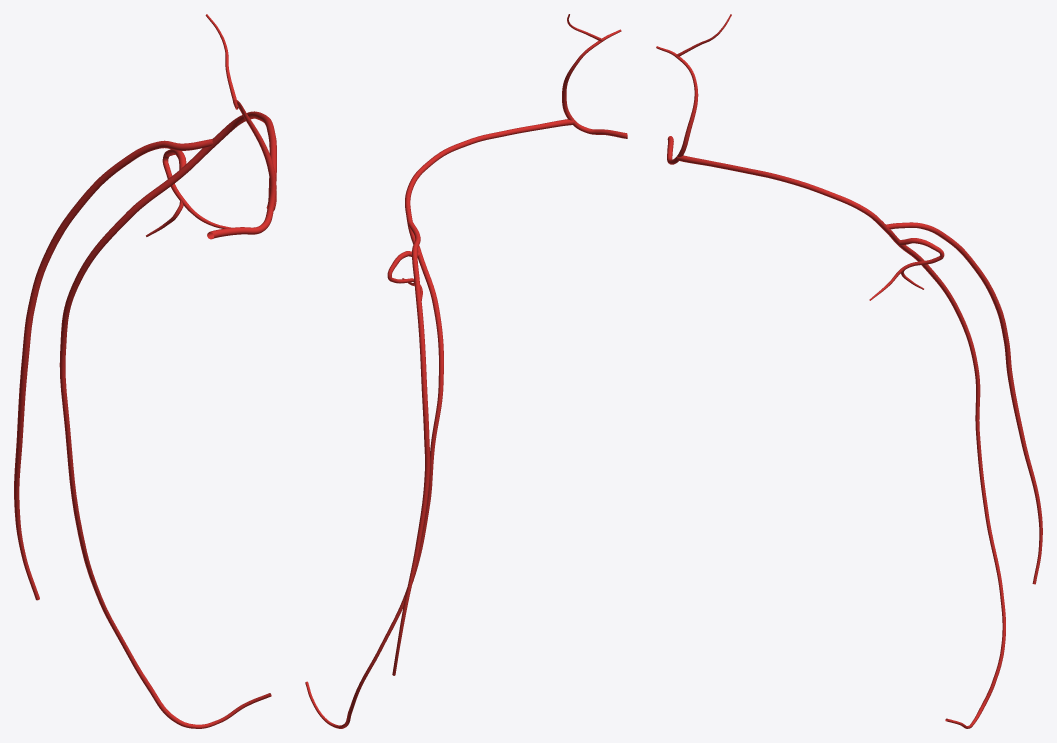
Rendered from circulatorio-transverse-cervical-artery-l.glb.
3 renders of one model, left to right at view 1: azimuth 30°, elevation 25°; view 2: azimuth 150°, elevation 25°; view 3: azimuth 270°, elevation 25°, orthographic. The views are drawn at different scales.
Parts seen in each view (by area): view 1: (Deep branch of transverse cervical artery).l, (Superficial branch of transverse cervical artery).l, Transverse cervical artery.l; view 2: (Deep branch of transverse cervical artery).l, (Superficial branch of transverse cervical artery).l, Transverse cervical artery.l; view 3: (Deep branch of transverse cervical artery).l, (Superficial branch of transverse cervical artery).l, Transverse cervical artery.l.
Part boxes in pixels (x1,y1,x2,y2): (Deep branch of transverse cervical artery).l: [59, 111, 276, 728]; (Superficial branch of transverse cervical artery).l: [14, 139, 213, 600]; Transverse cervical artery.l: [205, 14, 276, 239]; (Deep branch of transverse cervical artery).l: [305, 119, 573, 728]; (Superficial branch of transverse cervical artery).l: [392, 221, 430, 675]; Transverse cervical artery.l: [562, 14, 627, 138]; (Deep branch of transverse cervical artery).l: [677, 155, 1005, 728]; (Superficial branch of transverse cervical artery).l: [886, 222, 1042, 584]; Transverse cervical artery.l: [656, 14, 731, 164].
Bounding box in the file's own units: 0.0655 × 0.2204 × 0.1179.
